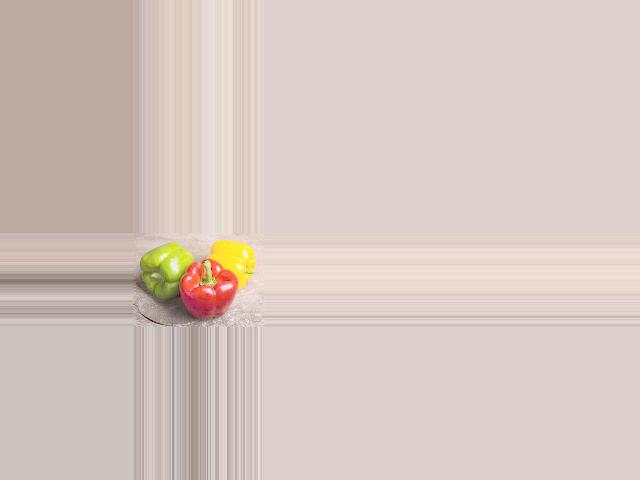bell_pepper: (210, 237, 255, 290)
